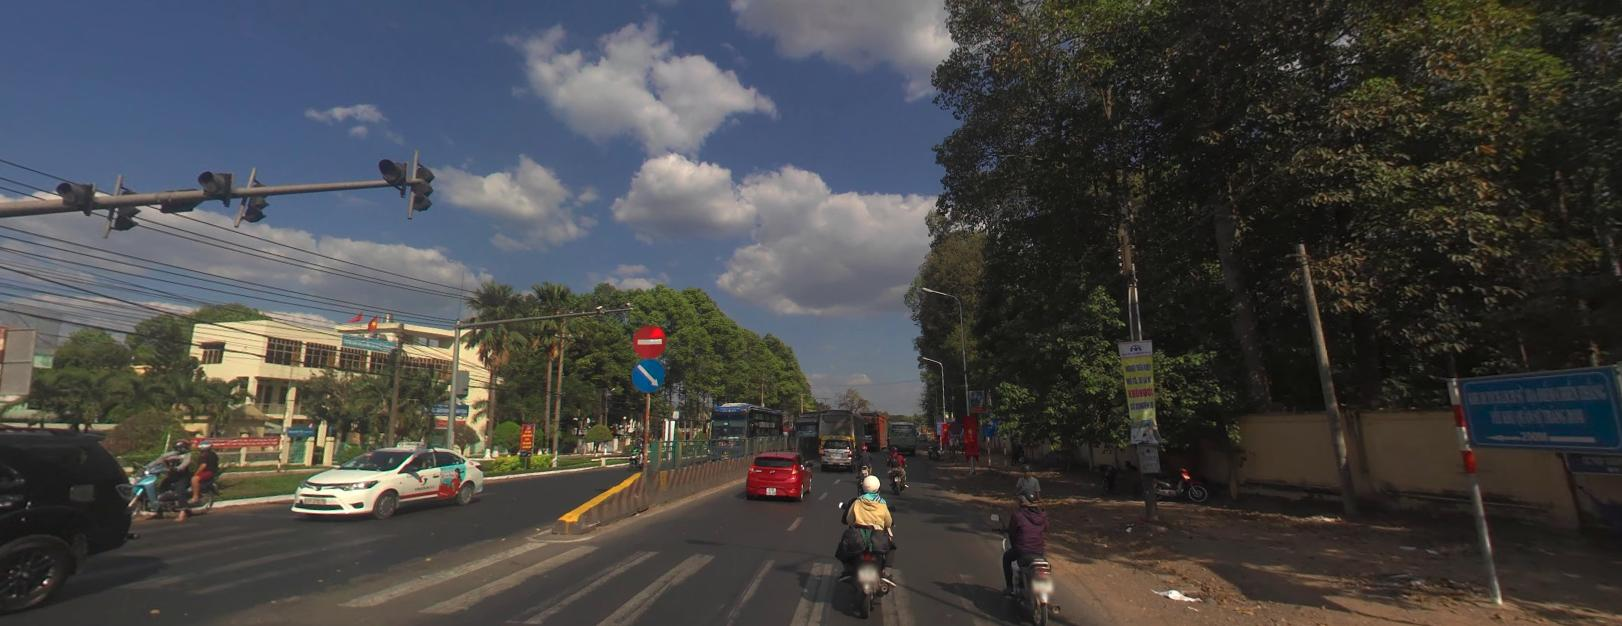Cam nguoc chieu: (633, 322, 667, 356)
Hieu lenh: (631, 357, 666, 391)
